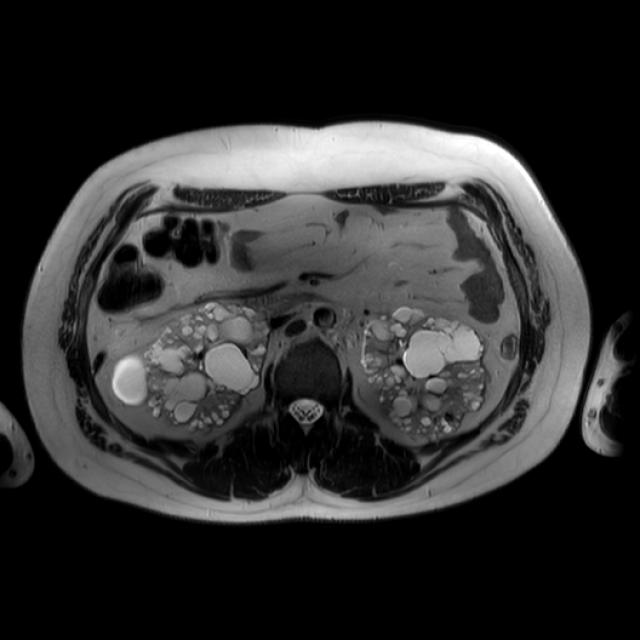sag: (113, 304, 269, 430)
sol: (363, 304, 488, 440)
